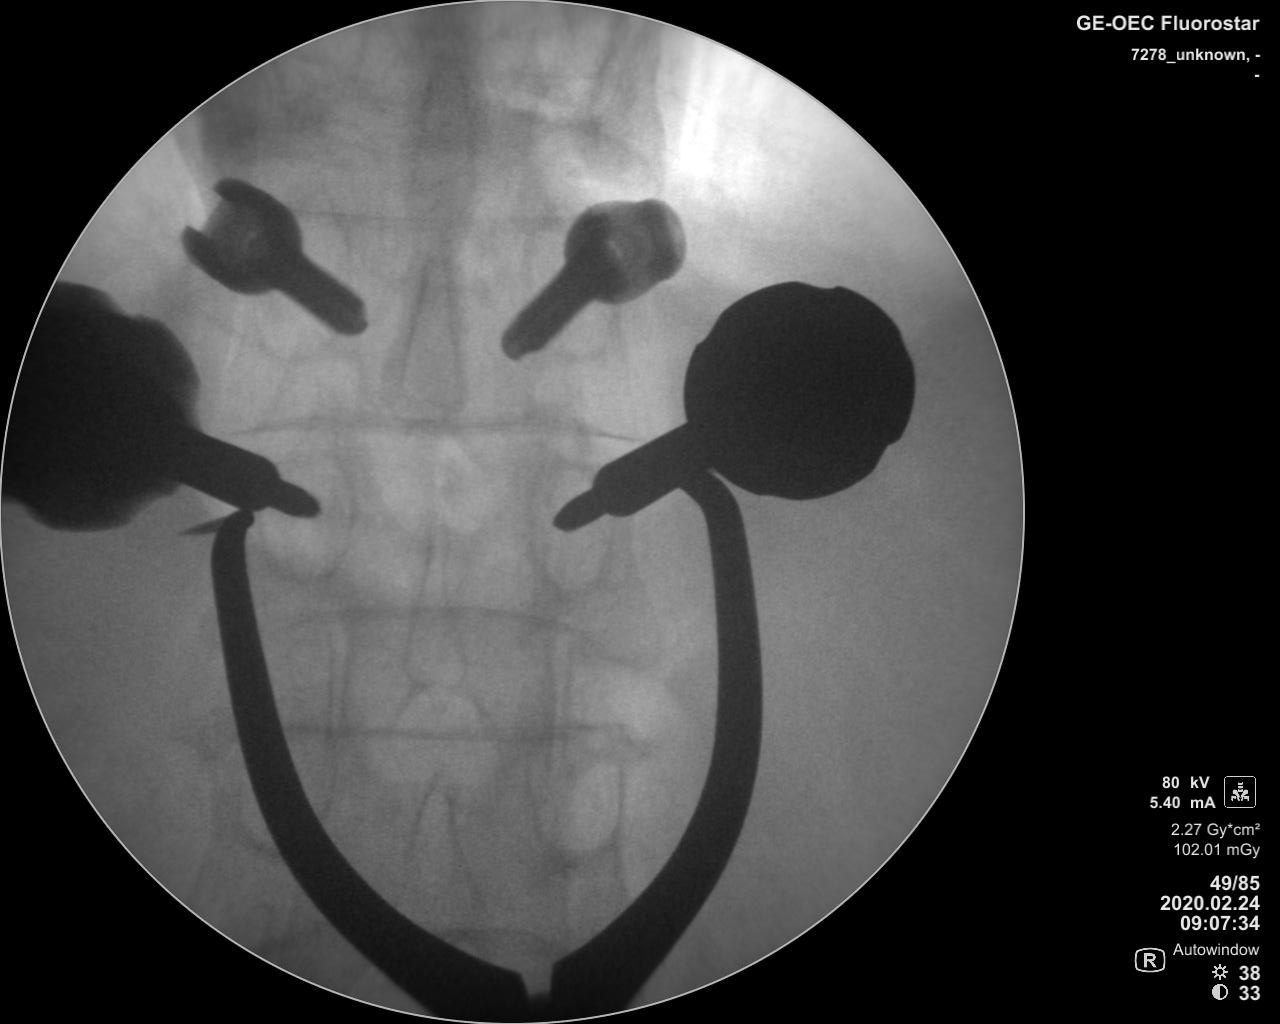eyes: (250, 199, 344, 362), (523, 229, 616, 363), (263, 449, 346, 586), (532, 732, 622, 852), (530, 461, 608, 597)
line: (219, 413, 639, 442), (272, 604, 580, 633), (283, 194, 571, 225), (283, 716, 538, 743)
nose: (402, 38, 472, 250), (396, 509, 471, 691), (393, 248, 466, 417), (406, 768, 475, 928)
